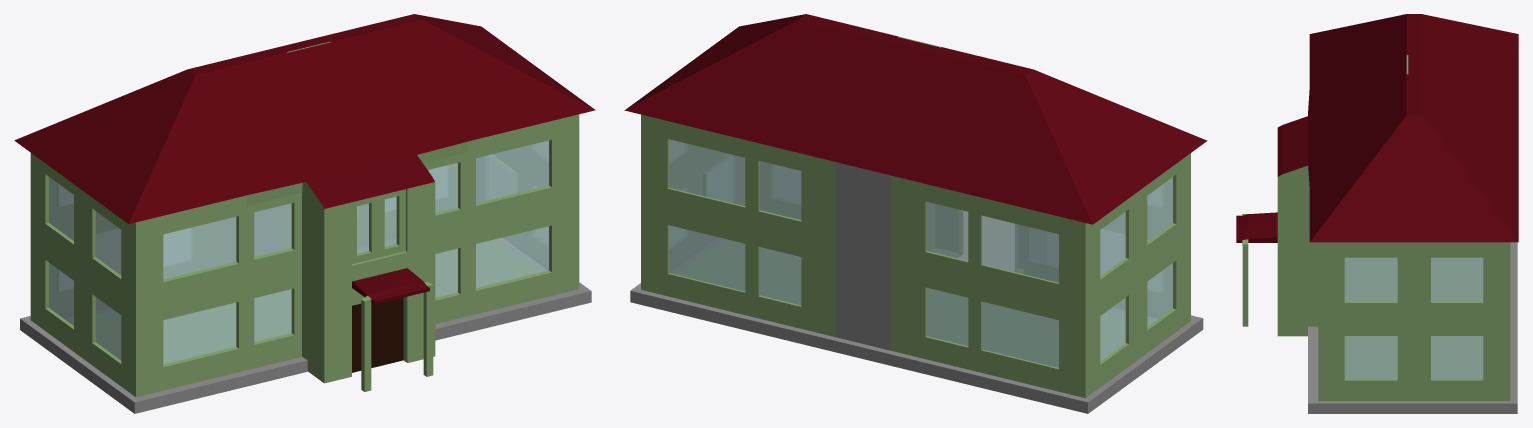
File: building_2.fbx
3 renders of one model, left to right at view 1: azimuth 30°, elevation 25°; view 2: azimuth 150°, elevation 25°; view 3: azimuth 270°, elevation 25°, orthographic. The views are drawn at different scales.
Visible parts, largest first — view 1: body; view 2: body; view 3: body.
Boxes of the visible parts, x1=… form: body: x1=14, y1=14, x2=595, y2=413; body: x1=624, y1=14, x2=1207, y2=413; body: x1=1236, y1=14, x2=1518, y2=413.
Size of the model in its own units: 513 by 285 by 294.
